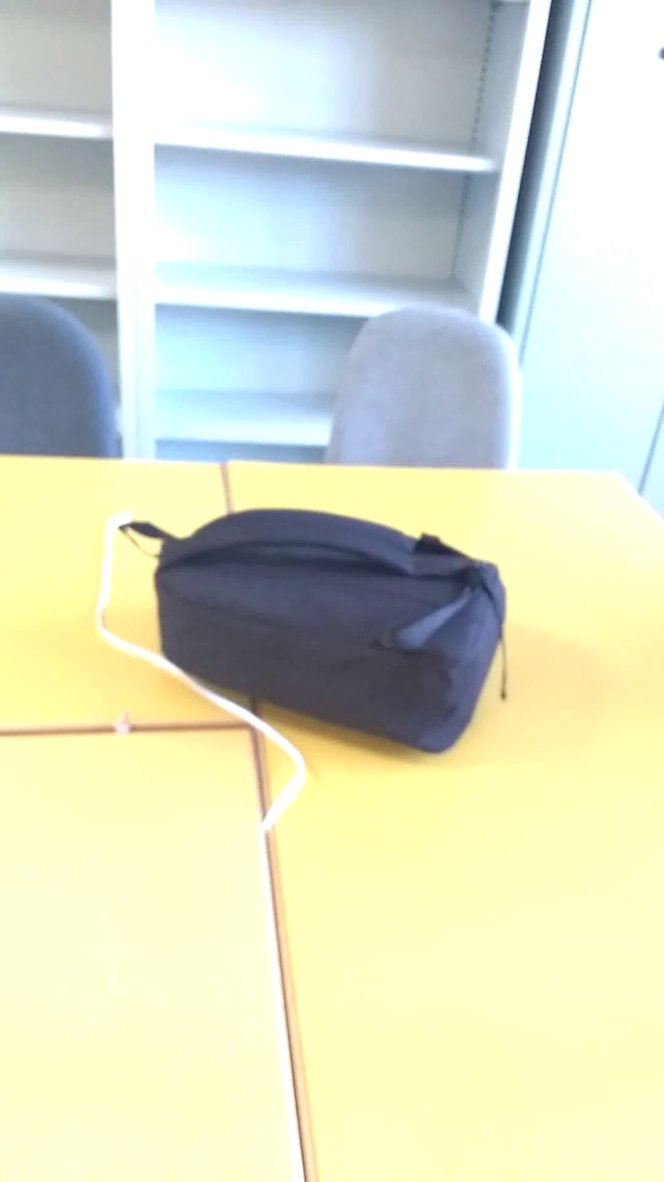bag: (108, 501, 522, 769)
chair: (326, 294, 553, 481)
